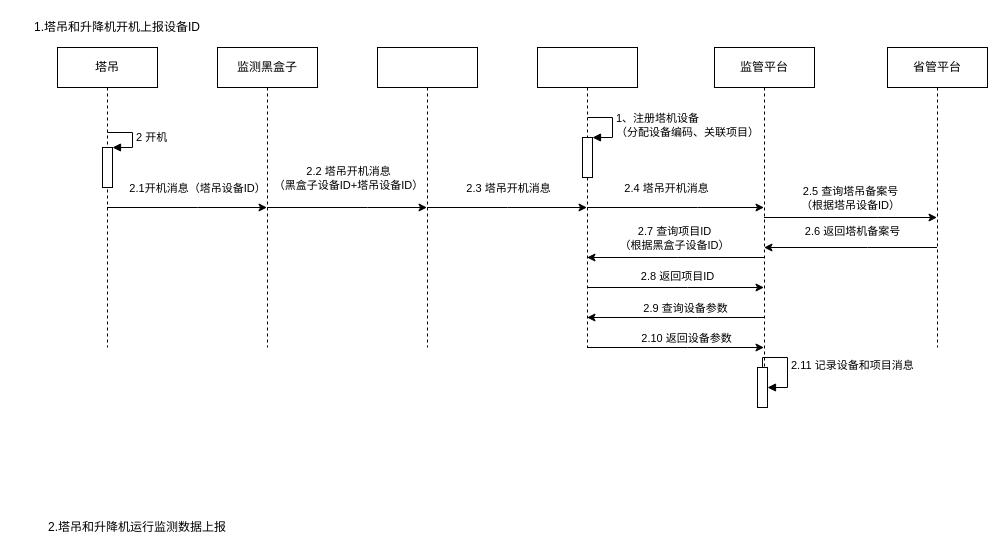
Image size: 1005x554. Some labels were removed from this diagram. Here are the shapes that lost their labels. From the top down, the box of each, then its label:
(376, 46, 478, 348): 网关
(536, 46, 638, 348): 物联网中台
